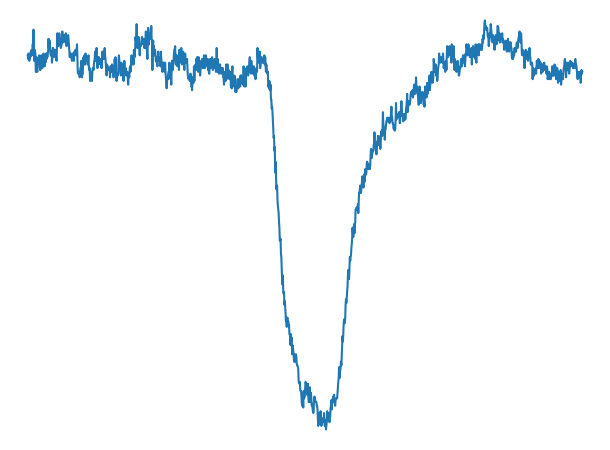decrease: (250, 40, 276, 88)
